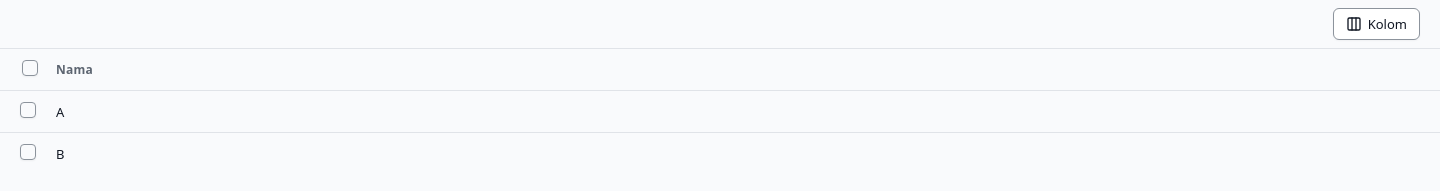
DataTable › seleksi + aksi massal
What coordinates should you click on to do the following:
click the checkbox named "Pilih semua baris"
I would click on:
 (30, 68)
Its box is [22,60,38,76].
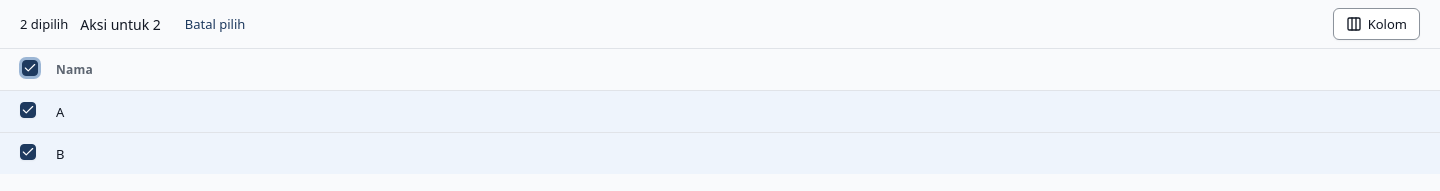
Expected: the text "2 dipilih" is shown, [20,14,68,34]
Expected: the text "Aksi untuk 2" is shown, [80,14,161,34]
